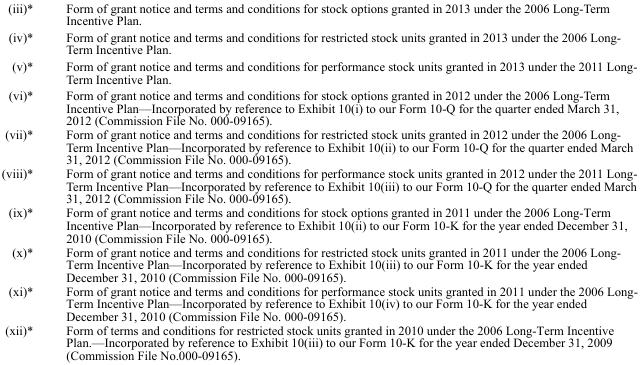table: (0, 0, 636, 361)
table column: (48, 0, 636, 361), (0, 0, 48, 361)
table row: (0, 86, 636, 126), (0, 165, 636, 205), (0, 126, 636, 165), (0, 205, 636, 244), (0, 244, 636, 283), (0, 283, 636, 322), (0, 322, 636, 361), (0, 28, 636, 57), (0, 57, 636, 86), (0, 0, 636, 28)
